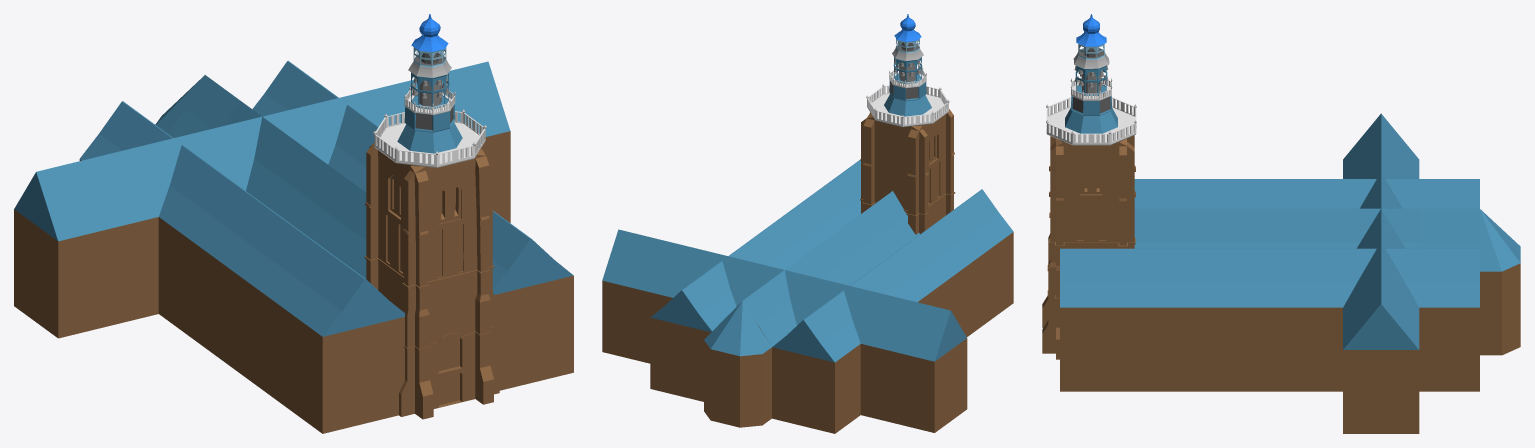
Rendered from kerk_vlissingen_new.fbx.
3 views of the same model, side by side, from view 1: azimuth 30°, elevation 25°; view 2: azimuth 150°, elevation 25°; view 3: azimuth 270°, elevation 25° (orthographic). The views are drawn at different scales.
Visible parts, largest first — view 1: Cylinder; view 2: Cylinder; view 3: Cylinder.
Part boxes in pixels (x1=…): Cylinder: x1=14, y1=14, x2=573, y2=433; Cylinder: x1=602, y1=14, x2=1013, y2=433; Cylinder: x1=1042, y1=14, x2=1520, y2=433.
Size of the model in its own units: 1272 by 1010 by 1348.
Materials: 2 (2 with a texture image).
